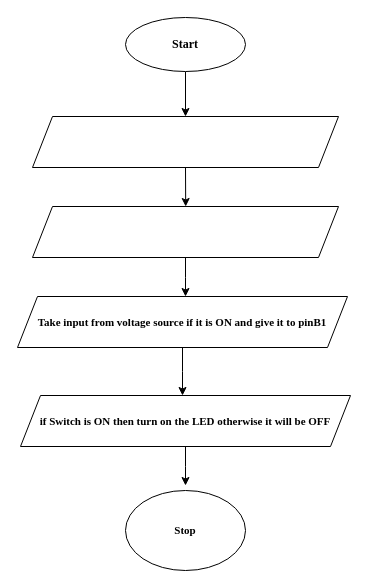
This 368x588 diagram has some shape labels left out. Here are the shapes that lost their labels. From the top down, the centre of each, then its label:
At pixel 185 142: "Initialize pinB1 of ATmega328p as input".
At pixel 185 232: "Initialize pinD2 of ATmega328p as output".
